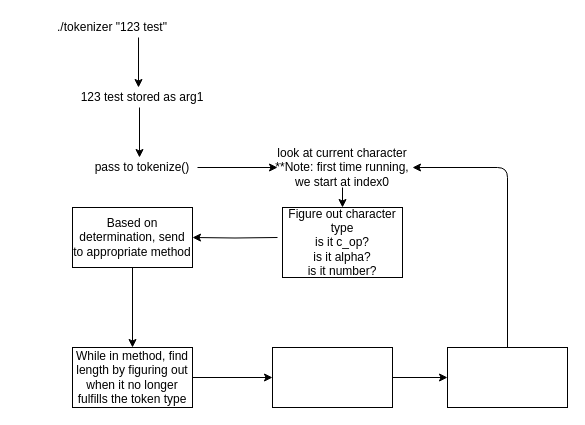
Some shapes in this 585 by 425 pixel diagram are drawn without their labels. The centre of each missing label's shape, as x and y in pixels:
index + length: the point at 507,377
return length of token: the point at 332,377
